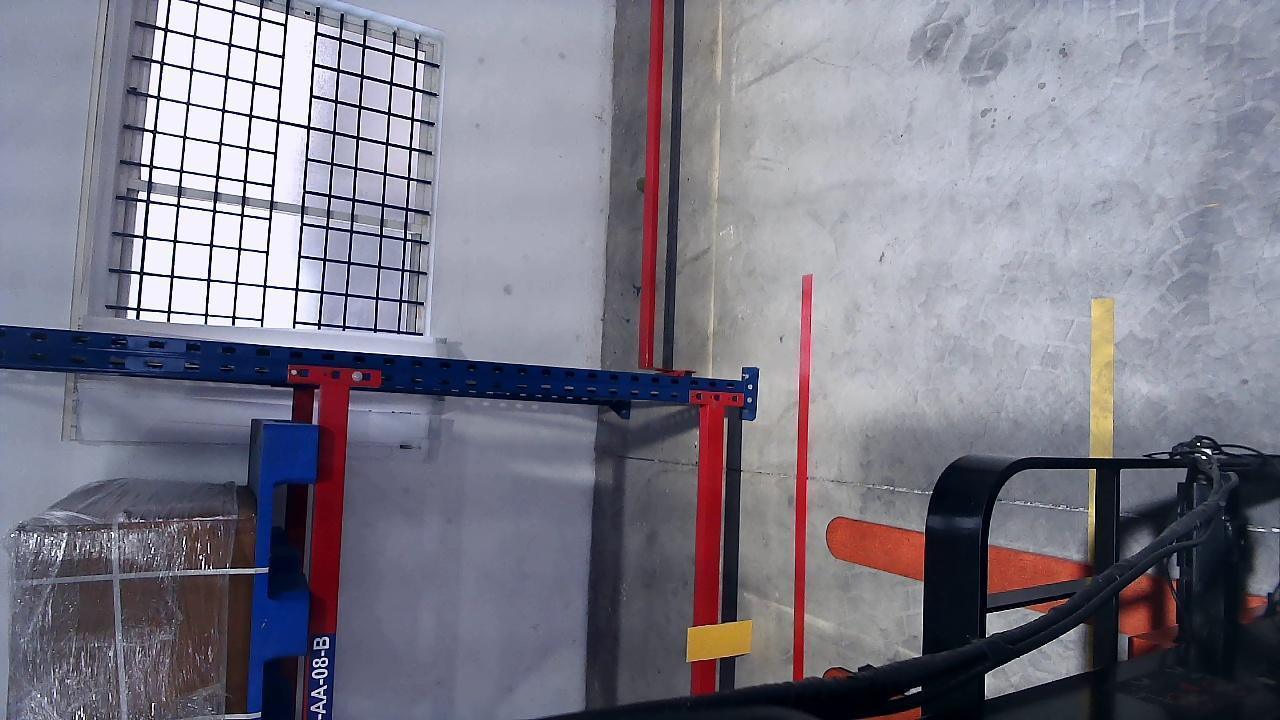red_line: (794, 274, 809, 680)
yellow_line: (1088, 298, 1117, 457)
